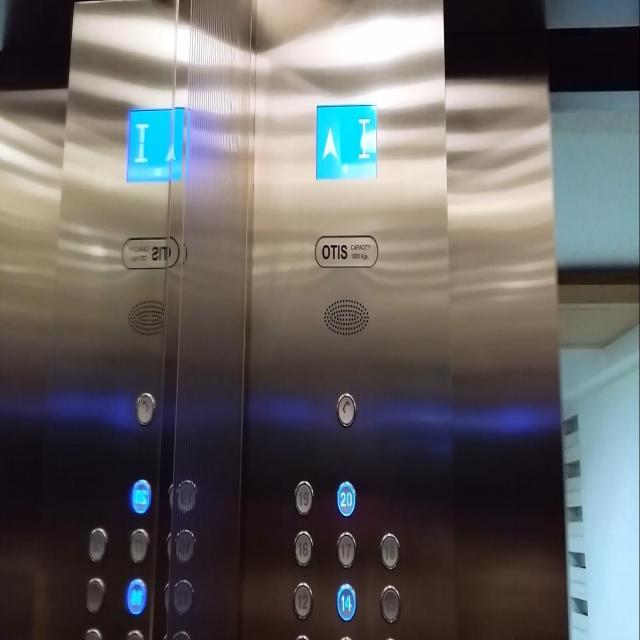12: (292, 581, 313, 620)
14: (335, 581, 357, 623)
15: (378, 582, 401, 622)
16: (292, 528, 314, 567)
17: (335, 530, 357, 568)
18: (378, 529, 399, 570)
19: (293, 476, 314, 516)
20: (336, 480, 356, 517)
call: (335, 389, 356, 428), (136, 391, 155, 427)
empty: (84, 575, 104, 613), (85, 526, 106, 562)
led: (315, 100, 379, 182), (124, 101, 188, 182)
unknown: (131, 476, 151, 515), (130, 525, 150, 563), (127, 577, 146, 616), (176, 479, 196, 512), (176, 529, 194, 562), (174, 580, 192, 612)
